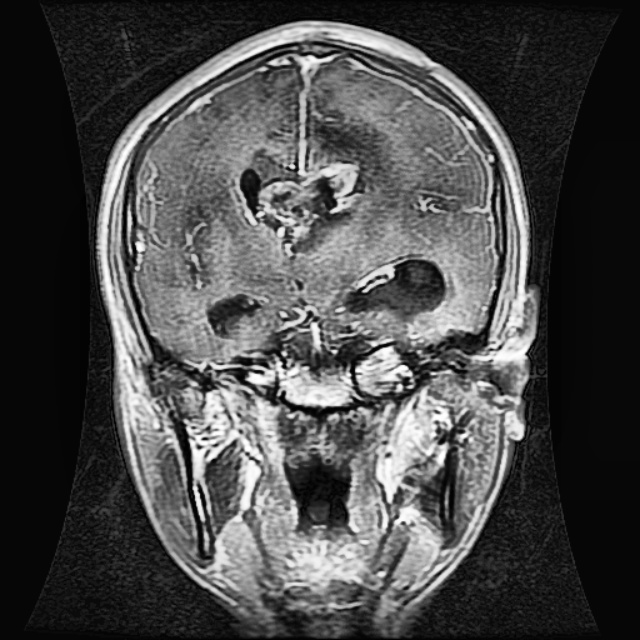Meningioma: (235, 127, 370, 250)
